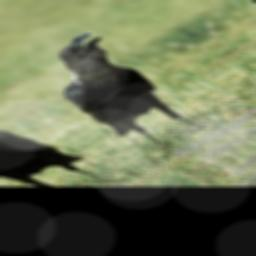Crow: (0, 26, 252, 159)
